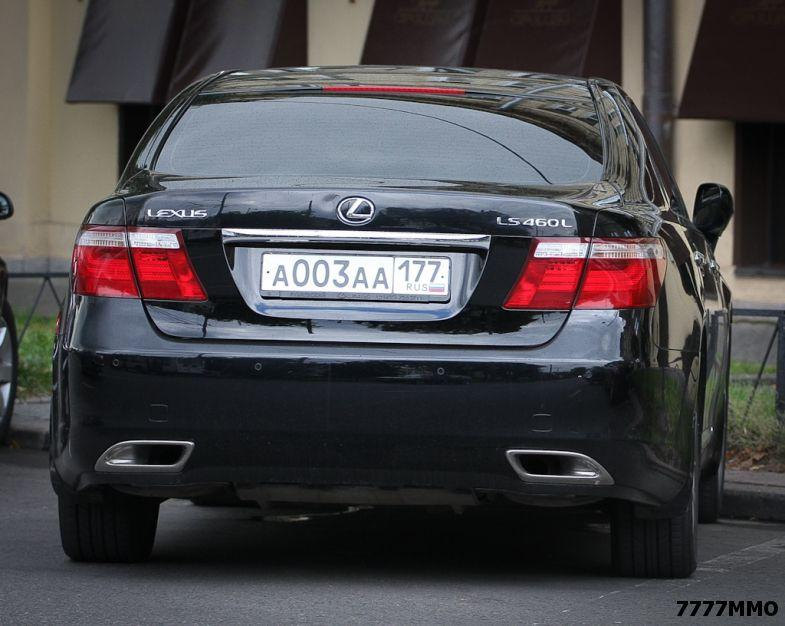license-plateSW: (263, 256, 450, 296)
